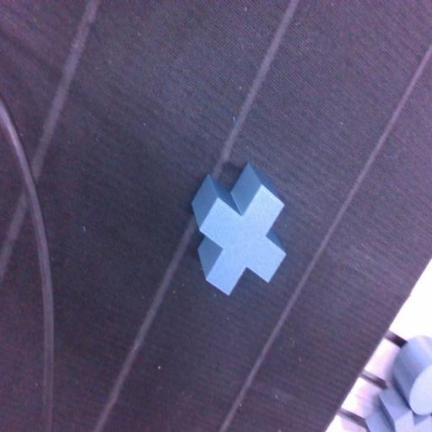cross: (193, 164, 286, 294)
